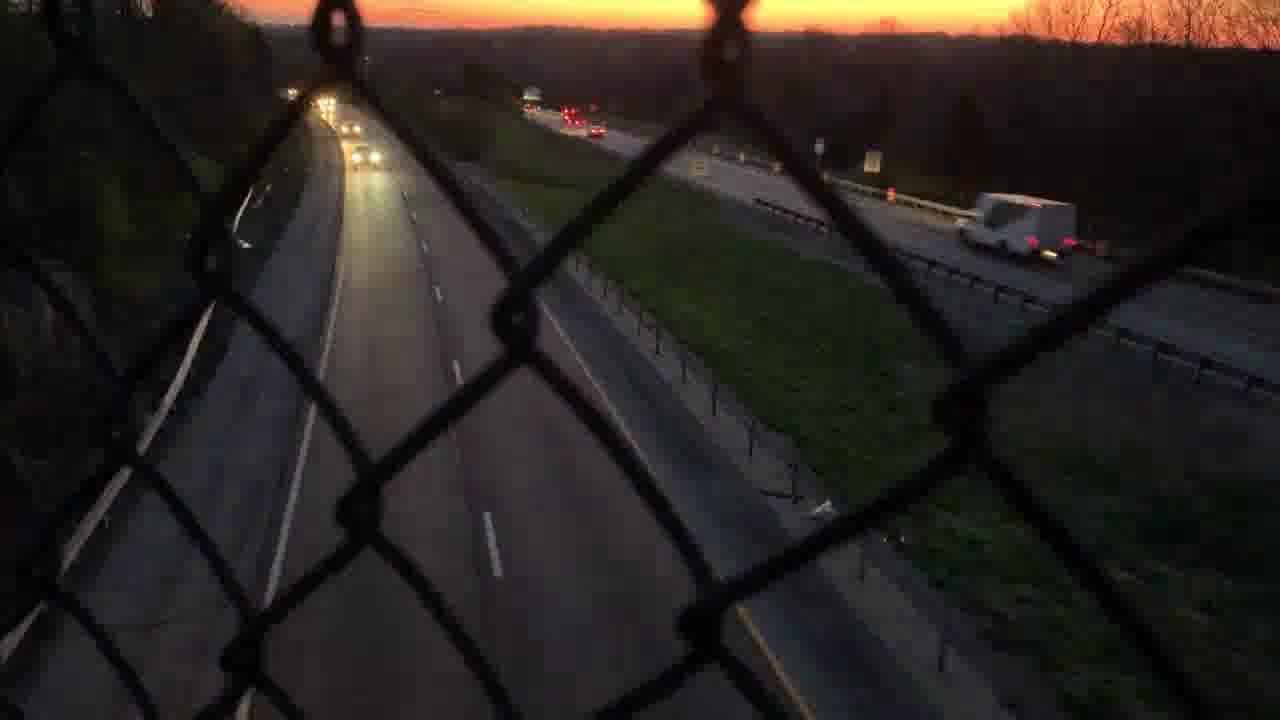heavyTruck: (955, 191, 1082, 269)
largeCar: (348, 142, 382, 170)
